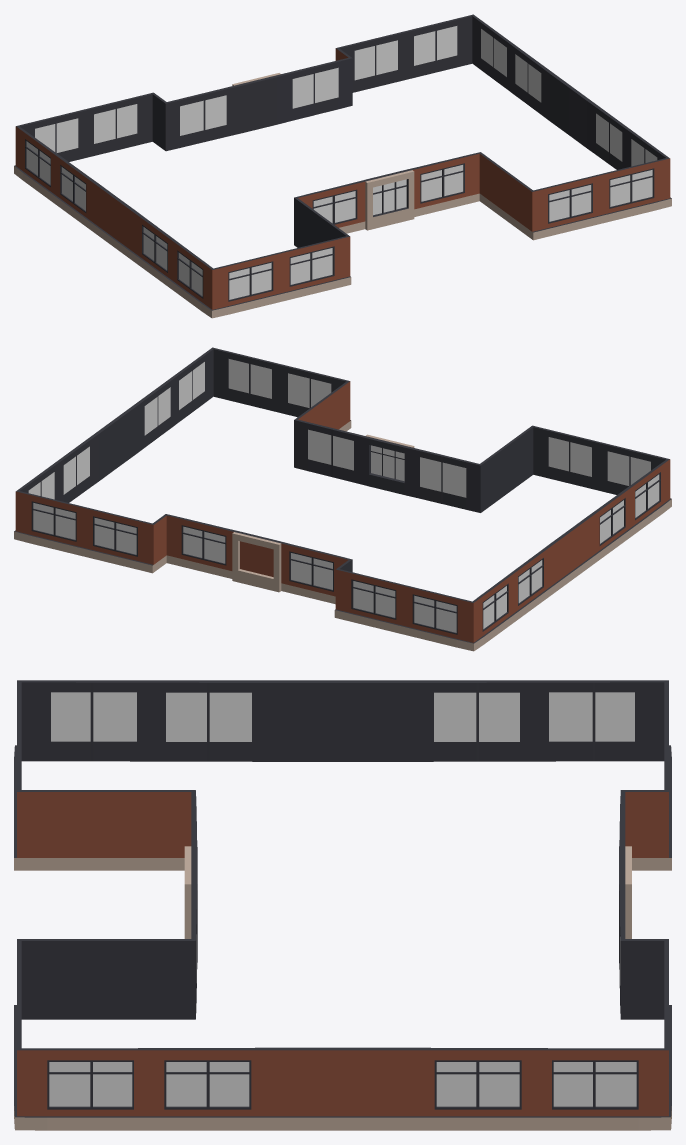
The model's file is Main_Block_FL2.fbx.
3 views of the same model, one above another, from view 1: azimuth 30°, elevation 25°; view 2: azimuth 150°, elevation 25°; view 3: azimuth 270°, elevation 25° (orthographic). The views are drawn at different scales.
Parts seen in each view (by area): view 1: FL2.Exterior_Export; view 2: FL2.Exterior_Export; view 3: FL2.Exterior_Export.
Part boxes in pixels (x1=…): FL2.Exterior_Export: x1=14, y1=14, x2=671, y2=318; FL2.Exterior_Export: x1=14, y1=347, x2=671, y2=651; FL2.Exterior_Export: x1=14, y1=680, x2=671, y2=1130.
Bounding box in the file's own units: 4053 × 400 × 3024.
